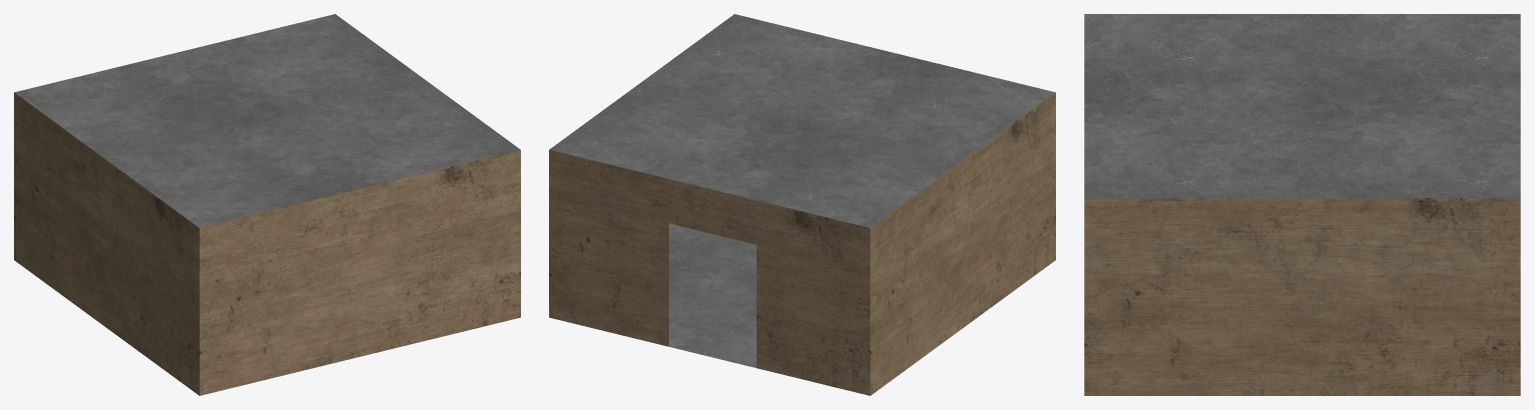
File: room.fbx
3 views of the same model, side by side, from view 1: azimuth 30°, elevation 25°; view 2: azimuth 150°, elevation 25°; view 3: azimuth 270°, elevation 25° (orthographic). The views are drawn at different scales.
Visible parts, largest first — view 1: polySurface22, polySurface23; view 2: polySurface22, polySurface23; view 3: polySurface22, polySurface23.
Part boxes in pixels (bbox=[...]): polySurface22: bbox=[14, 92, 520, 395]; polySurface23: bbox=[14, 14, 520, 227]; polySurface22: bbox=[549, 92, 1055, 395]; polySurface23: bbox=[549, 14, 1055, 367]; polySurface22: bbox=[1084, 198, 1520, 395]; polySurface23: bbox=[1084, 14, 1520, 198].
Size of the model in its own units: 207 by 103 by 207.
